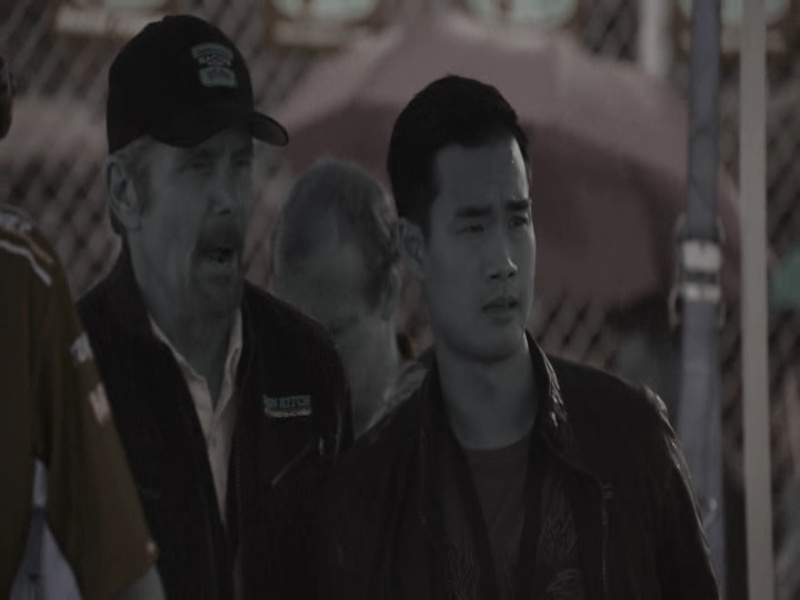TsisyArotava: (395, 99, 556, 374), (128, 79, 277, 309)
